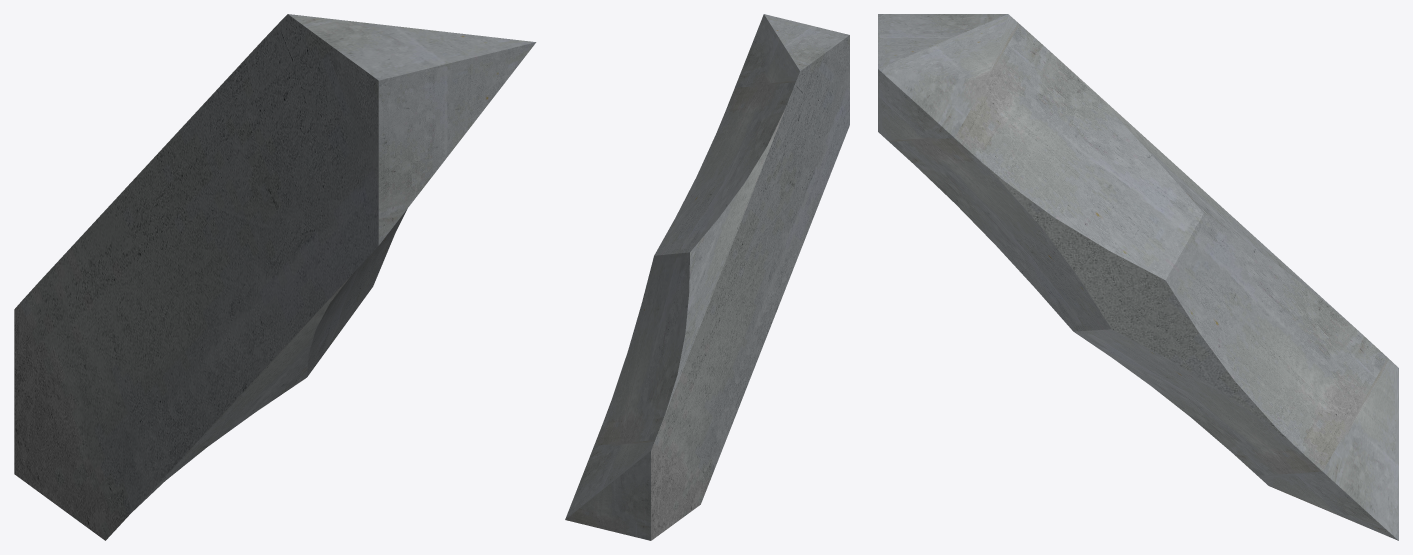
Rendered from module_E1.fbx.
The picture shows the model from 3 angles, left to right: view 1: azimuth 30°, elevation 25°; view 2: azimuth 150°, elevation 25°; view 3: azimuth 270°, elevation 25°; orthographic projection. The views are drawn at different scales.
Parts seen in each view (by area): view 1: modules; view 2: modules; view 3: modules.
Part boxes in pixels (box(x1,y1,x2,y2)): modules: box(14, 14, 536, 540); modules: box(565, 14, 849, 540); modules: box(878, 14, 1398, 540).
Size of the model in its own units: 250 by 1000 by 1000.
Materials: 1 (1 with a texture image).
